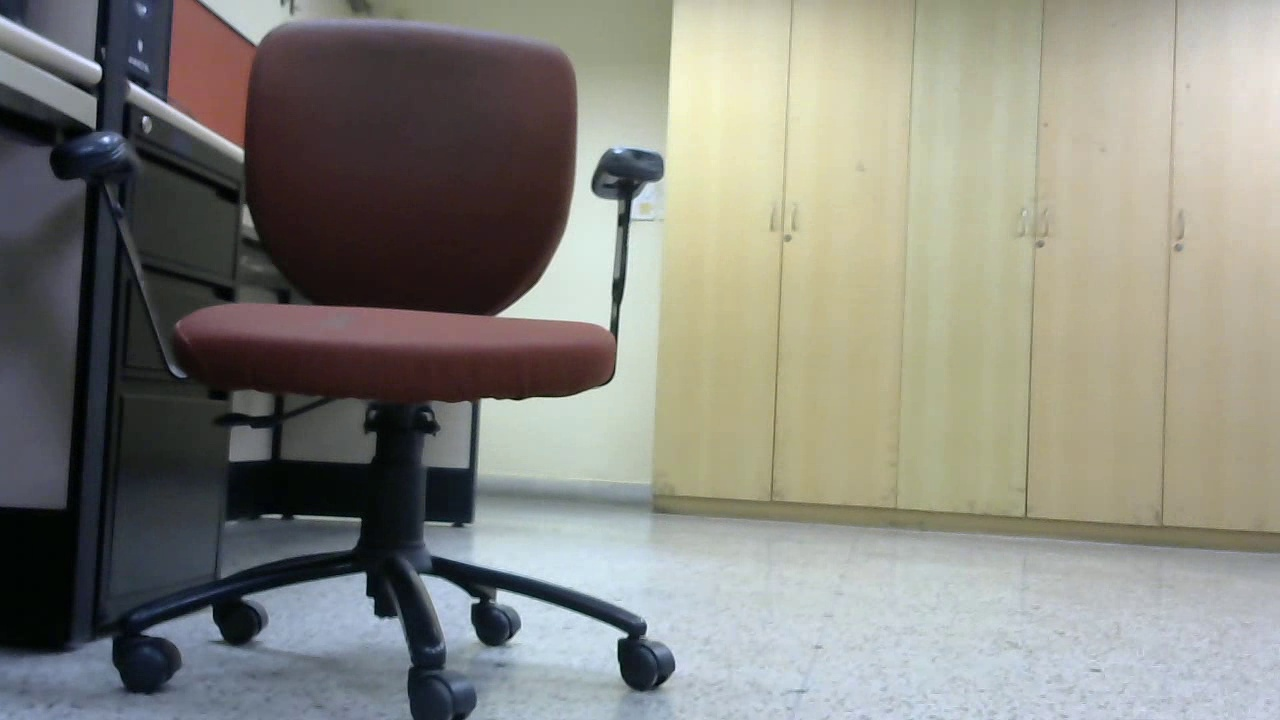chair: (61, 16, 680, 720)
